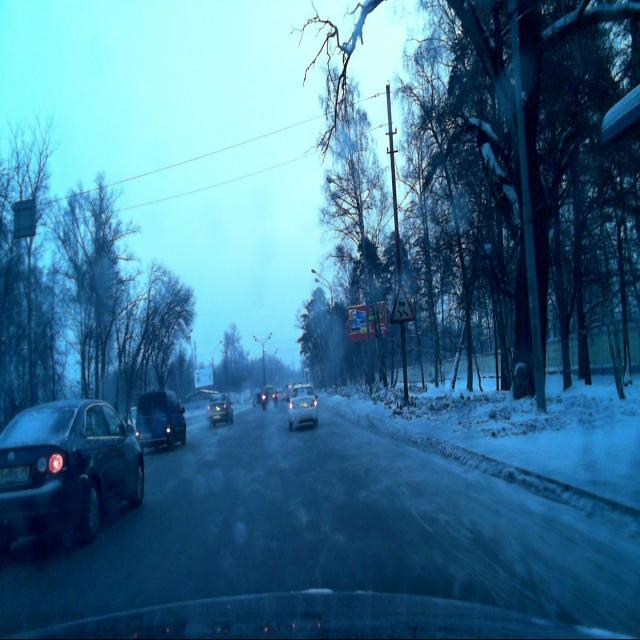road sign: (389, 283, 413, 323)
